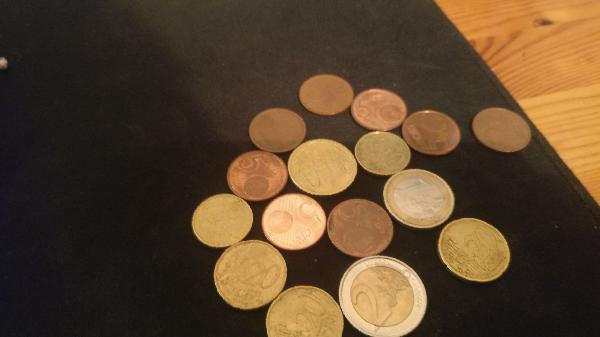Fifty Cent: (287, 134, 359, 192)
Five Cent: (330, 196, 395, 256), (265, 191, 325, 250), (472, 103, 532, 156), (227, 150, 290, 198), (407, 107, 459, 155), (248, 108, 308, 149), (300, 78, 353, 117), (357, 88, 407, 128)
One Euro: (383, 166, 455, 227)
Ten Cent: (188, 193, 259, 246), (354, 129, 413, 178)
Twenty Cent: (214, 238, 287, 310), (436, 217, 512, 278), (266, 285, 344, 337)
Two Euro: (341, 255, 430, 335)
